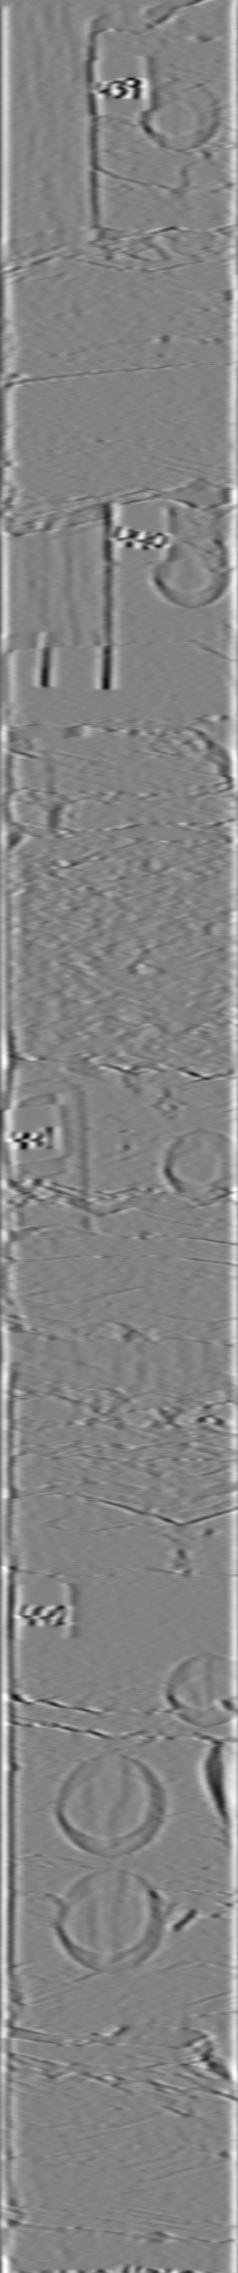hplug: (138, 523, 238, 610), (134, 67, 226, 159), (155, 1644, 238, 1726), (152, 1125, 238, 1200)
scal: (49, 1866, 173, 1982), (49, 1745, 171, 1861)
vplug: (9, 28, 107, 254), (30, 493, 120, 702), (10, 1081, 102, 1239)
